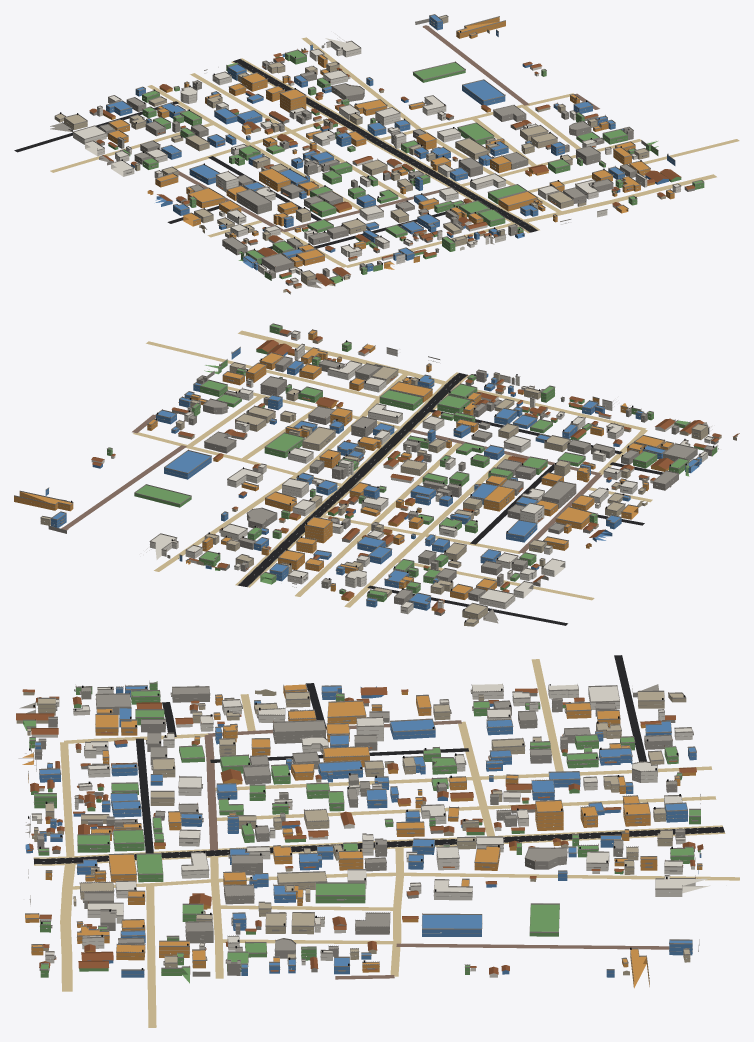
File: zone_t-4_0.glb
The picture shows the model from 3 angles, top to bottom: view 1: azimuth 30°, elevation 25°; view 2: azimuth 150°, elevation 25°; view 3: azimuth 270°, elevation 25°; orthographic projection. The views are drawn at different scales.
Visible parts, largest first — view 1: parapet_t-4_0, bld_peinture_ocre_t-4_0-col, bld_peinture_blanc_t-4_0-col, bld_beton_t-4_0-col, bld_peinture_bleu_t-4_0-col, bld_peinture_vert_t-4_0-col, bld_peinture_ecaillee_t-4_0-col, route_residential_terre_t-4_0, toit_tole_t-4_0, bandeau_t-4_0, route_secondary_bitume_t-4_0, route_residential_paves_t-4_0 (+3 smaller); view 2: parapet_t-4_0, bld_peinture_ocre_t-4_0-col, bld_peinture_blanc_t-4_0-col, bld_beton_t-4_0-col, bld_peinture_vert_t-4_0-col, bld_peinture_bleu_t-4_0-col, route_residential_terre_t-4_0, bld_peinture_ecaillee_t-4_0-col, toit_tole_t-4_0, bandeau_t-4_0, route_secondary_bitume_t-4_0, route_residential_paves_t-4_0 (+3 smaller); view 3: parapet_t-4_0, bld_peinture_ocre_t-4_0-col, bld_peinture_bleu_t-4_0-col, bld_peinture_blanc_t-4_0-col, bld_peinture_vert_t-4_0-col, bld_beton_t-4_0-col, route_residential_terre_t-4_0, bld_peinture_ecaillee_t-4_0-col, toit_tole_t-4_0, bandeau_t-4_0, route_residential_bitume_t-4_0, route_residential_paves_t-4_0 (+5 smaller).
Part boxes in pixels (left/top/right/bottom): parapet_t-4_0: left=54, top=14, right=704, bottom=283; bld_peinture_ocre_t-4_0-col: left=103, top=17, right=674, bottom=269; bld_peinture_blanc_t-4_0-col: left=73, top=38, right=680, bottom=284; bld_beton_t-4_0-col: left=50, top=19, right=694, bottom=288; bld_peinture_bleu_t-4_0-col: left=106, top=15, right=675, bottom=271; bld_peinture_vert_t-4_0-col: left=108, top=50, right=704, bottom=283; bld_peinture_ecaillee_t-4_0-col: left=54, top=15, right=665, bottom=294; route_residential_terre_t-4_0: left=50, top=37, right=739, bottom=267; toit_tole_t-4_0: left=89, top=50, right=695, bottom=292; bandeau_t-4_0: left=65, top=19, right=703, bottom=284; route_secondary_bitume_t-4_0: left=233, top=59, right=537, bottom=232; route_residential_paves_t-4_0: left=178, top=25, right=599, bottom=232; parapet_t-4_0: left=14, top=323, right=718, bottom=623; bld_peinture_ocre_t-4_0-col: left=14, top=330, right=673, bottom=610; bld_peinture_blanc_t-4_0-col: left=91, top=331, right=713, bottom=614; bld_beton_t-4_0-col: left=48, top=332, right=718, bottom=623; bld_peinture_vert_t-4_0-col: left=107, top=324, right=717, bottom=601; bld_peinture_bleu_t-4_0-col: left=45, top=348, right=701, bottom=610; route_residential_terre_t-4_0: left=133, top=341, right=652, bottom=607; bld_peinture_ecaillee_t-4_0-col: left=40, top=338, right=737, bottom=626; toit_tole_t-4_0: left=91, top=329, right=739, bottom=613; bandeau_t-4_0: left=14, top=329, right=714, bottom=617; route_secondary_bitume_t-4_0: left=238, top=373, right=467, bottom=586; route_residential_paves_t-4_0: left=61, top=414, right=601, bottom=553; parapet_t-4_0: left=18, top=680, right=702, bottom=981; bld_peinture_ocre_t-4_0-col: left=22, top=684, right=702, bottom=988; bld_peinture_bleu_t-4_0-col: left=25, top=686, right=701, bottom=977; bld_peinture_blanc_t-4_0-col: left=29, top=684, right=710, bottom=977; bld_peinture_vert_t-4_0-col: left=23, top=681, right=700, bottom=983; bld_beton_t-4_0-col: left=19, top=684, right=699, bottom=976; route_residential_terre_t-4_0: left=60, top=659, right=739, bottom=1027; bld_peinture_ecaillee_t-4_0-col: left=16, top=690, right=695, bottom=975; toit_tole_t-4_0: left=16, top=687, right=703, bottom=974; bandeau_t-4_0: left=27, top=686, right=700, bottom=974; route_residential_bitume_t-4_0: left=136, top=655, right=646, bottom=853; route_residential_paves_t-4_0: left=204, top=720, right=669, bottom=979.
Size of the model in its own units: 656 by 17 by 540.
